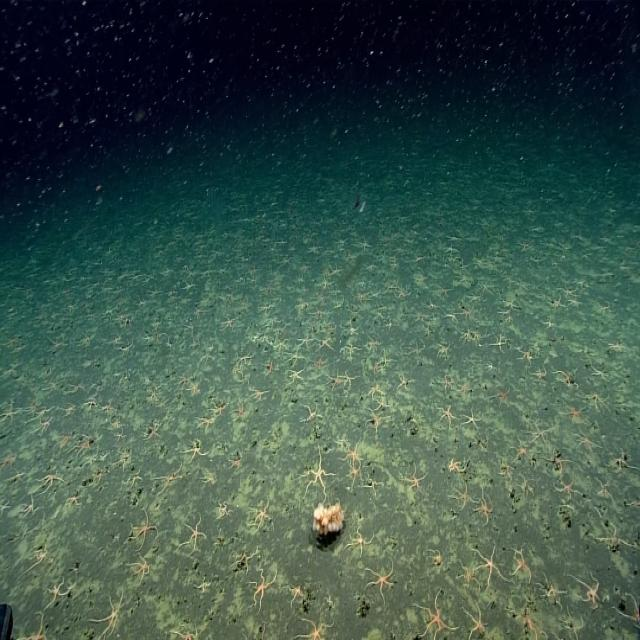brittle-stars: (594, 515, 634, 555), (415, 592, 445, 640), (302, 447, 329, 497), (248, 568, 276, 608), (98, 592, 124, 635), (572, 572, 602, 607), (475, 548, 503, 584), (129, 508, 156, 545), (182, 513, 204, 554), (20, 610, 50, 640), (462, 603, 486, 640), (366, 566, 393, 597), (249, 500, 274, 533), (45, 575, 72, 605), (296, 617, 331, 640), (511, 548, 532, 584), (128, 554, 152, 584), (154, 468, 181, 492), (349, 523, 367, 558), (38, 468, 66, 490), (575, 428, 596, 457), (554, 367, 578, 392), (404, 464, 424, 494), (554, 477, 578, 501), (586, 389, 609, 414), (170, 621, 200, 640), (530, 421, 550, 449), (451, 484, 473, 509), (564, 402, 586, 427), (458, 560, 478, 587), (184, 439, 207, 462), (510, 438, 530, 464), (285, 582, 306, 606), (344, 437, 362, 465), (30, 544, 49, 570), (346, 462, 364, 489), (462, 407, 482, 431), (0, 401, 19, 426), (364, 332, 383, 355), (476, 497, 492, 524), (34, 404, 52, 426), (74, 436, 91, 459), (339, 342, 359, 360), (288, 364, 306, 384), (440, 404, 457, 425), (340, 371, 360, 388), (494, 386, 510, 407), (518, 346, 534, 367), (590, 366, 608, 384), (448, 454, 464, 474), (438, 372, 453, 393), (273, 333, 288, 354), (232, 400, 247, 421), (210, 401, 228, 418), (302, 404, 320, 421), (144, 423, 161, 440), (559, 282, 576, 299), (396, 370, 408, 394), (262, 359, 278, 377), (368, 408, 381, 430), (216, 500, 230, 520), (250, 386, 266, 403), (198, 414, 215, 430), (492, 335, 507, 353), (113, 427, 127, 445), (188, 379, 202, 397), (100, 398, 114, 416), (458, 306, 473, 322), (314, 355, 328, 372), (368, 383, 383, 398), (299, 334, 313, 350), (222, 315, 236, 331), (287, 349, 300, 366), (177, 373, 190, 389), (317, 335, 331, 349), (329, 264, 342, 279), (110, 417, 121, 428)
